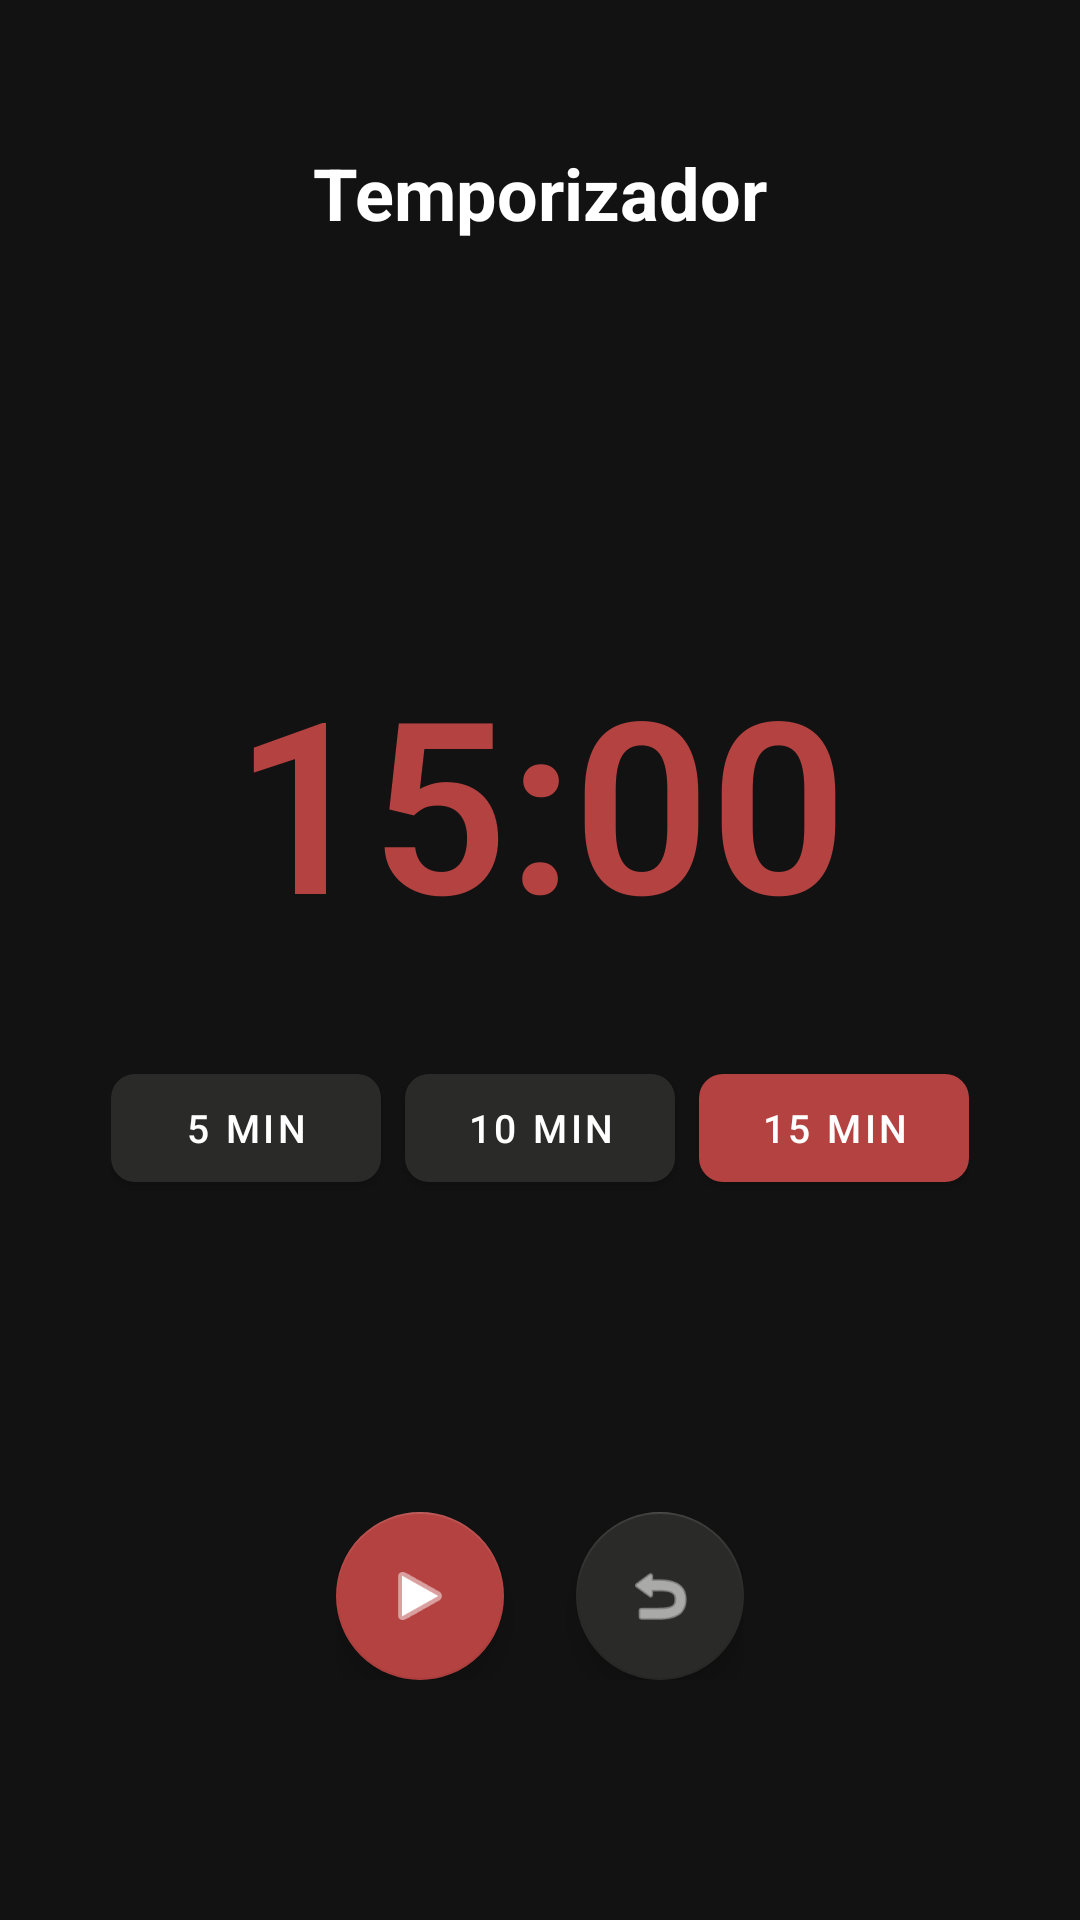

Icons on this 1080 x 1920 Android screen, each with the point to tap as (x=x, y=y):
Play/Pause: (x=420, y=1596)
Reset: (x=660, y=1595)
